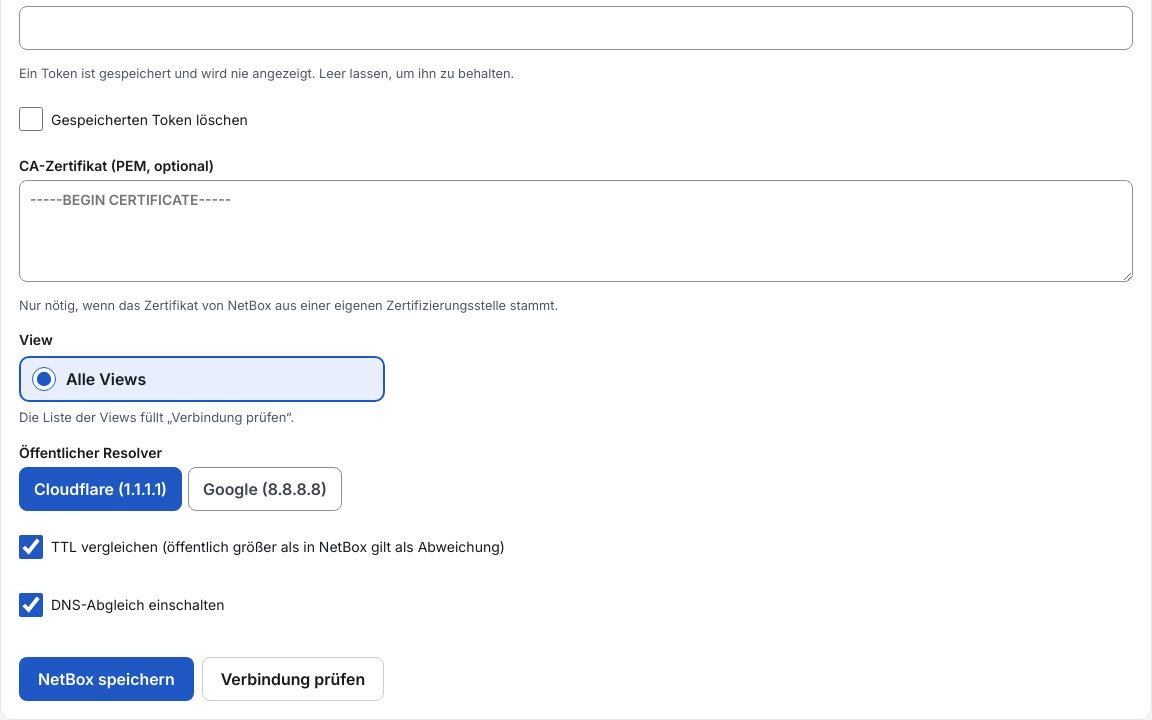
NetboxSettings › zeigt den Token nie und behält ihn beim Speichern
This screenshot has width=1152, height=720.
(page scrolled)
Expected: the password field labelled "Neuer API-Token" is empty, [19,6,1133,50]
Click the button "Google (8.8.8.8)" at [265, 489], box [188,467,342,511]
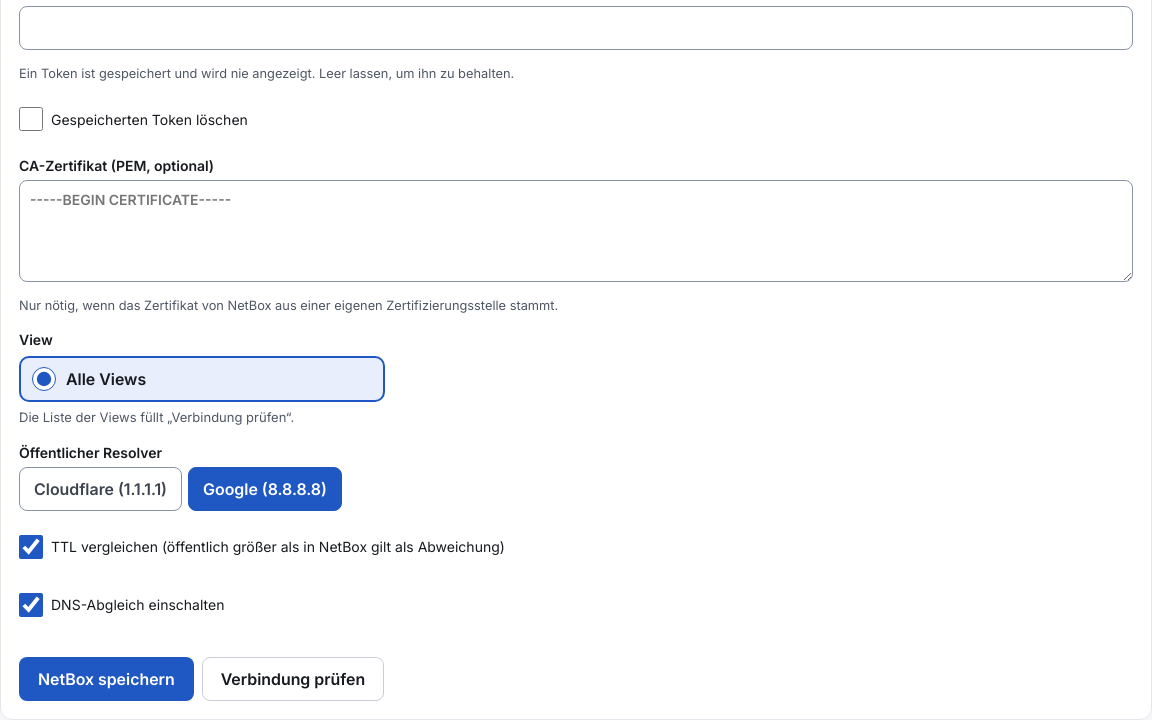
Click the button "NetBox speichern" at [106, 679], box [19,657,194,701]
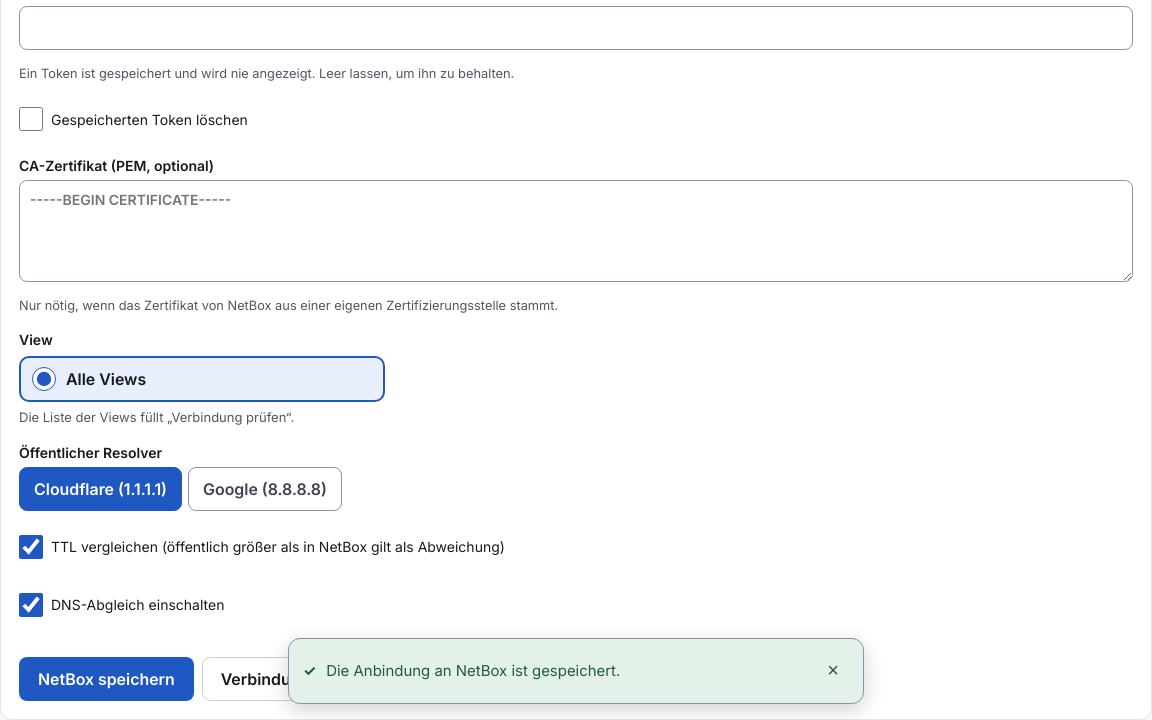
Expected: the text "Die Anbindung an NetBox ist gespeichert." is shown, [326,660,620,680]
